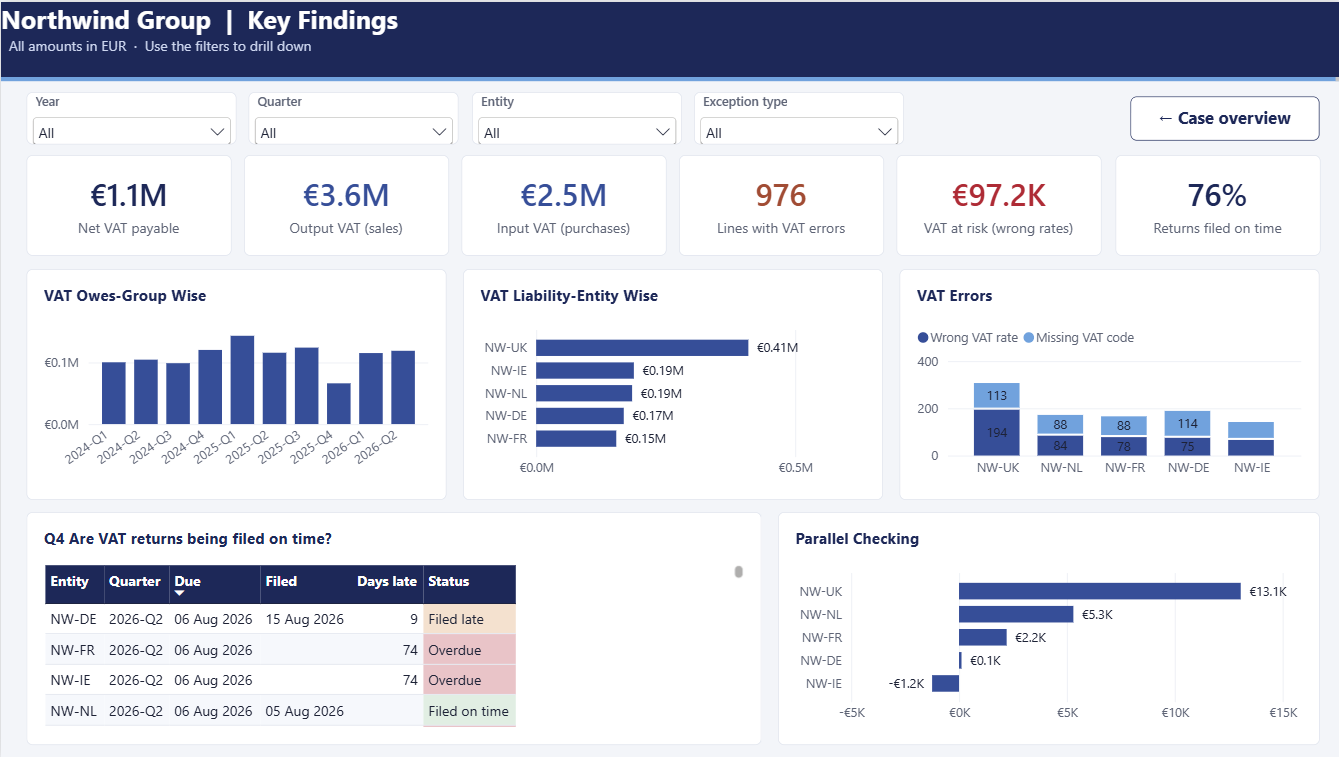

The page's visual inventory and layout, read from the dashboard file:
{"tool":"powerbi","page":{"name":"Key Findings","canvas":[1280,720],"ordinal":1},"visuals":[{"type":"textbox","box":[0,0,1280,72],"z":1000},{"type":"textbox","box":[0,72,1280,4],"z":2000},{"type":"slicer","fields":{"Values":["DimDate.Year"]},"box":[24,86,200,50],"z":3000},{"type":"slicer","fields":{"Values":["DimDate.YearQuarter"]},"box":[236,86,200,50],"z":4000},{"type":"slicer","fields":{"Values":["DimEntity.EntityName"]},"box":[448,86,200,50],"z":5000},{"type":"slicer","fields":{"Values":["FactVATTransactions.ExceptionType"]},"box":[660,86,200,50],"z":6000},{"type":"actionButton","box":[1076,90,180,42],"z":7000},{"type":"card","fields":{"Values":["FactVATTransactions.Net VAT Payable"]},"box":[24,146,195,96],"z":8000},{"type":"card","fields":{"Values":["FactVATTransactions.Output VAT"]},"box":[231,146,195,96],"z":9000},{"type":"card","fields":{"Values":["FactVATTransactions.Input VAT"]},"box":[439,146,195,96],"z":10000},{"type":"card","fields":{"Values":["FactVATTransactions.Exceptions"]},"box":[646,146,195,96],"z":11000},{"type":"card","fields":{"Values":["FactVATTransactions.VAT at Risk"]},"box":[853,146,195,96],"z":12000},{"type":"card","fields":{"Values":["FactFilings.On-time Filing %"]},"box":[1061,146,195,96],"z":13000},{"type":"clusteredColumnChart","title":"VAT Owes-Group Wise","fields":{"Category":["DimDate.YearQuarter"],"Y":["FactVATTransactions.Net VAT Payable"]},"box":[24,254,400,220],"z":14000},{"type":"clusteredBarChart","title":"VAT Liability-Entity Wise","fields":{"Category":["DimEntity.EntityCode"],"Y":["FactVATTransactions.Net VAT Payable"]},"box":[440,254,400,220],"z":15000},{"type":"columnChart","title":"Q3  Where are the VAT errors? (lines by entity)","fields":{"Category":["DimEntity.EntityCode"],"Y":["FactVATTransactions.Wrong Rate Count","FactVATTransactions.Missing Code Count"]},"box":[856,254,400,220],"z":16000},{"type":"tableEx","title":"Q4  Are VAT returns being filed on time?","fields":{"Values":["FactFilings.EntityCode","FactFilings.Period","FactFilings.DueDate","FactFilings.FiledDate","FactFilings.Days Late","FactFilings.Filing Status"]},"box":[24,486,700,222],"z":17000},{"type":"clusteredBarChart","title":"Parallel Checking","fields":{"Category":["DimEntity.EntityCode"],"Y":["FactFilings.Filed vs Calculated Variance"]},"box":[740,486,516,222],"z":18000}]}

Visuals, with their boxes in screenshot pixels (x1, y1, x2, y2), scaled from the page's 1280x720 canvas onto the 1339x757 screenshot:
textbox: bbox=(0, 0, 1338, 76)
textbox: bbox=(0, 76, 1338, 80)
slicer - DimDate.Year: bbox=(25, 90, 234, 143)
slicer - DimDate.YearQuarter: bbox=(247, 90, 456, 143)
slicer - DimEntity.EntityName: bbox=(469, 90, 678, 143)
slicer - FactVATTransactions.ExceptionType: bbox=(690, 90, 900, 143)
actionButton: bbox=(1126, 95, 1314, 139)
card - FactVATTransactions.Net VAT Payable: bbox=(25, 154, 229, 254)
card - FactVATTransactions.Output VAT: bbox=(242, 154, 446, 254)
card - FactVATTransactions.Input VAT: bbox=(459, 154, 663, 254)
card - FactVATTransactions.Exceptions: bbox=(676, 154, 880, 254)
card - FactVATTransactions.VAT at Risk: bbox=(892, 154, 1096, 254)
card - FactFilings.On-time Filing %: bbox=(1110, 154, 1314, 254)
"VAT Owes-Group Wise" clusteredColumnChart: bbox=(25, 267, 444, 498)
"VAT Liability-Entity Wise" clusteredBarChart: bbox=(460, 267, 879, 498)
"Q3  Where are the VAT errors? (lines by entity)" columnChart: bbox=(895, 267, 1314, 498)
"Q4  Are VAT returns being filed on time?" tableEx: bbox=(25, 511, 757, 744)
"Parallel Checking" clusteredBarChart: bbox=(774, 511, 1314, 744)
